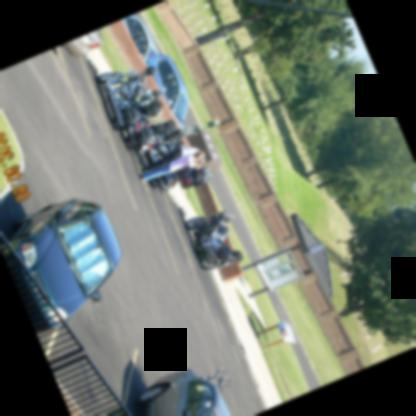backpack: (141, 101, 161, 117)
